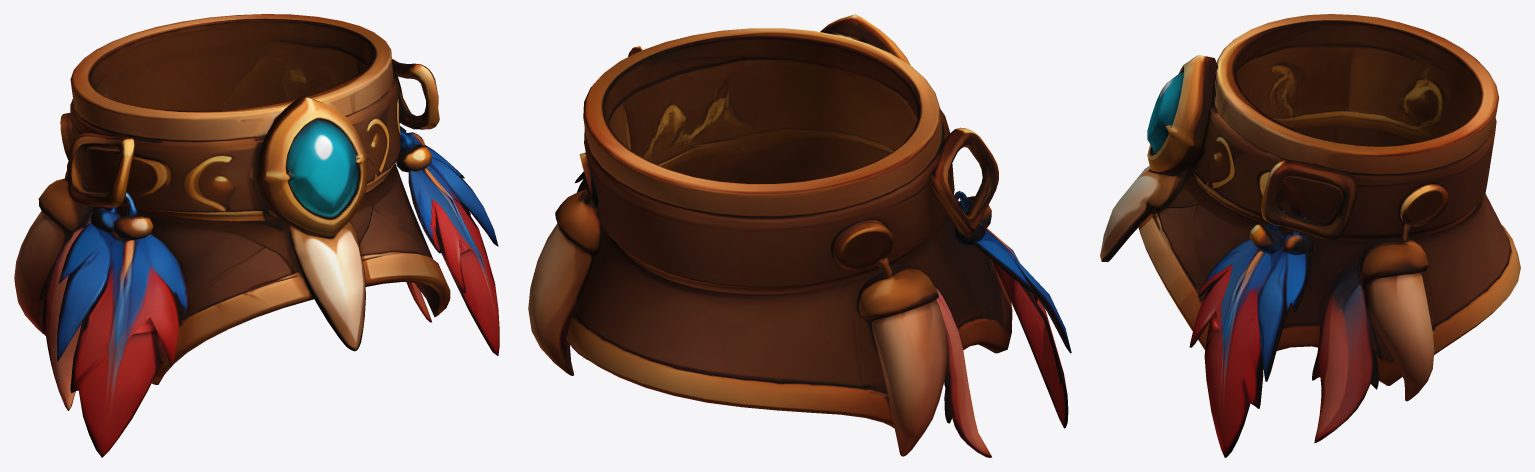
Rendered from baine-boot-hq.glb.
3 renders of one model, left to right at view 1: azimuth 30°, elevation 25°; view 2: azimuth 150°, elevation 25°; view 3: azimuth 270°, elevation 25°, orthographic. The views are drawn at different scales.
Parts seen in each view (by area): view 1: tripo_2e22d61c_ad53_470a_b60d_c18447ce61be; view 2: tripo_2e22d61c_ad53_470a_b60d_c18447ce61be; view 3: tripo_2e22d61c_ad53_470a_b60d_c18447ce61be.
Part boxes in pixels (x1,y1,x2,y2): tripo_2e22d61c_ad53_470a_b60d_c18447ce61be: [14, 14, 499, 457]; tripo_2e22d61c_ad53_470a_b60d_c18447ce61be: [528, 14, 1071, 457]; tripo_2e22d61c_ad53_470a_b60d_c18447ce61be: [1100, 14, 1520, 457].
Size of the model in its own units: 0.3671 by 0.25 by 0.309.
Materials: 1 (1 with a texture image).
